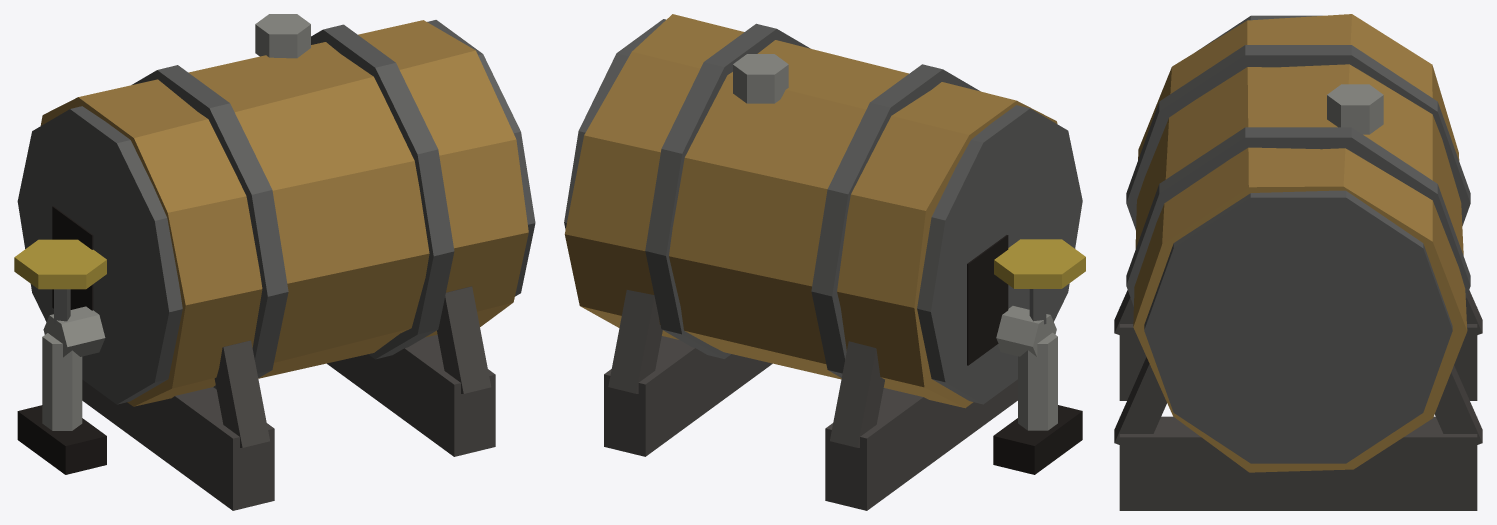
The model's file is util_oil.glb.
3 renders of one model, left to right at view 1: azimuth 30°, elevation 25°; view 2: azimuth 150°, elevation 25°; view 3: azimuth 270°, elevation 25°, orthographic.
Visible parts, largest first — view 1: util_oil; view 2: util_oil; view 3: util_oil.
Part boxes in pixels (x1,y1,x2,y2): util_oil: [14, 14, 535, 510]; util_oil: [564, 14, 1085, 510]; util_oil: [1114, 14, 1482, 510].
Size of the model in its own units: 0.627 by 0.5 by 0.4531.
